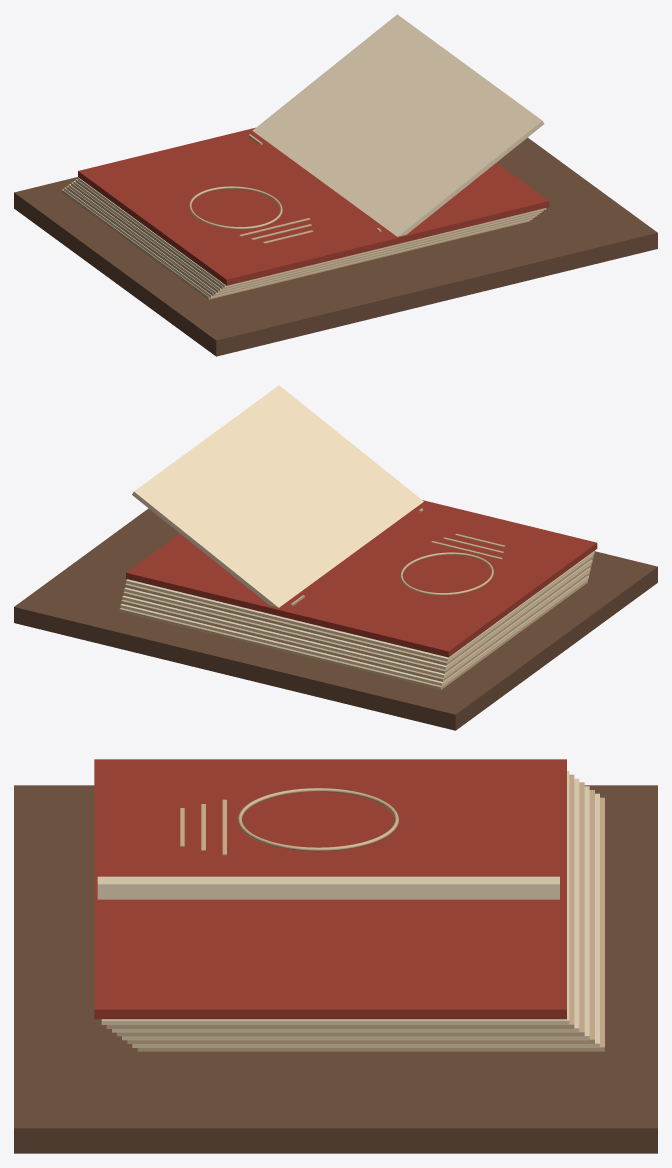
The model's file is offcut.glb.
3 views of the same model, one above another, from view 1: azimuth 30°, elevation 25°; view 2: azimuth 150°, elevation 25°; view 3: azimuth 270°, elevation 25° (orthographic). The views are drawn at different scales.
Parts seen in each view (by area): view 1: offcut; view 2: offcut; view 3: offcut.
Boxes of the visible parts, bbox=[...] form: offcut: bbox=[14, 14, 657, 356]; offcut: bbox=[14, 385, 657, 730]; offcut: bbox=[14, 759, 657, 1153].
Bounding box in the file's own units: 4.6 × 1.3 × 3.65.
